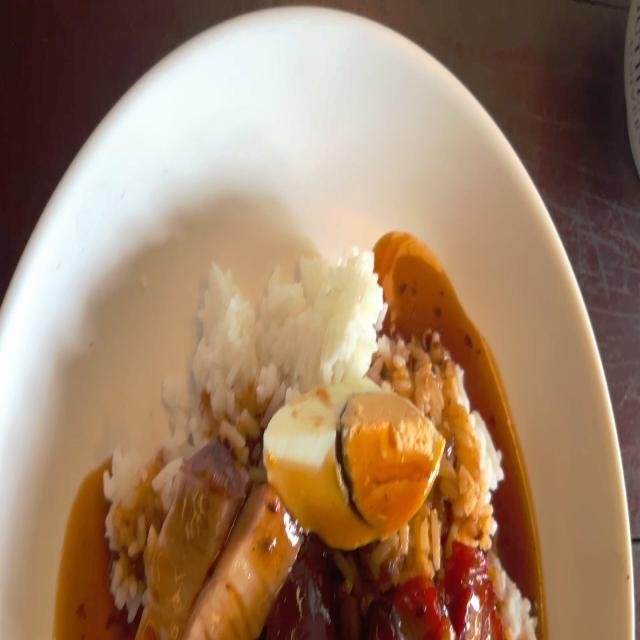boiled_egg: (266, 380, 441, 540)
chainese_sausage: (280, 536, 396, 640)
crispy_pork: (133, 441, 285, 640)
red_pork: (395, 542, 502, 640)
red_pork_and_crispy_pork: (100, 241, 541, 640)
rice: (187, 242, 387, 379), (443, 346, 500, 547)
